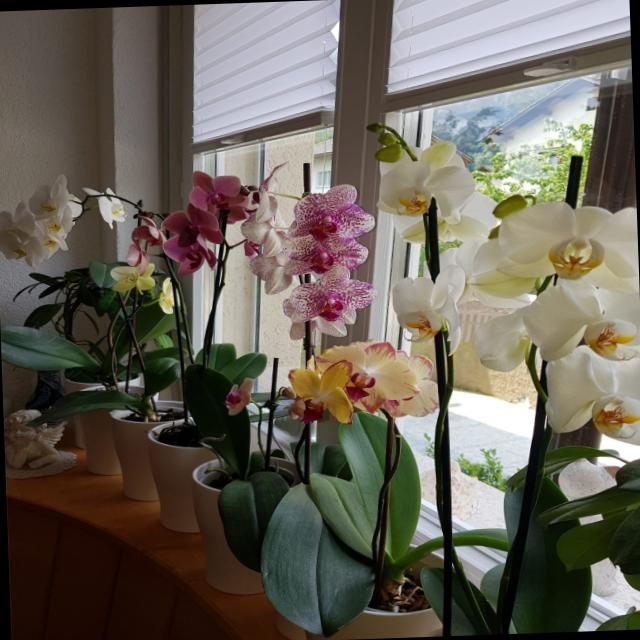flower: (495, 202, 638, 284), (519, 277, 639, 363), (544, 347, 640, 436), (318, 342, 431, 414), (281, 188, 372, 274), (380, 143, 473, 215), (0, 175, 79, 258), (284, 270, 373, 332), (161, 181, 220, 273), (392, 273, 454, 337), (289, 365, 351, 422)
leaf: (258, 479, 327, 630), (182, 365, 251, 473), (552, 501, 640, 569), (310, 472, 375, 554), (339, 412, 386, 518), (27, 388, 141, 426), (1, 325, 98, 369), (387, 436, 421, 560), (141, 347, 180, 395), (544, 446, 620, 470), (134, 304, 174, 345), (394, 538, 441, 569), (453, 529, 509, 550)
